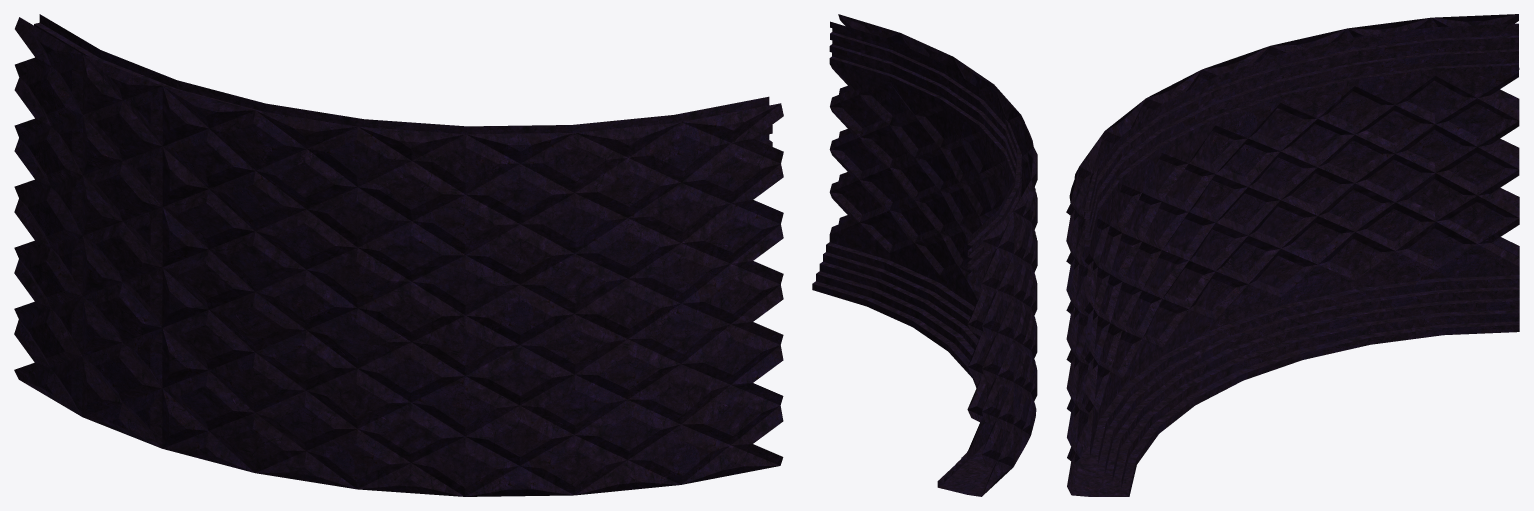
Rendered from mdl_duc_sci_planetariumcylinder_1of4.glb.
The picture shows the model from 3 angles, left to right: view 1: azimuth 30°, elevation 25°; view 2: azimuth 150°, elevation 25°; view 3: azimuth 270°, elevation 25°; orthographic projection. The views are drawn at different scales.
Visible parts, largest first — view 1: Cylindrical Wall 1/4; view 2: Cylindrical Wall 1/4; view 3: Cylindrical Wall 1/4.
Boxes of the visible parts, x1,y1,x2,y2 form: Cylindrical Wall 1/4: [14, 14, 783, 496]; Cylindrical Wall 1/4: [812, 14, 1037, 496]; Cylindrical Wall 1/4: [1066, 14, 1519, 496].
Bounding box in the file's own units: 1.03 × 0.7405 × 1.03.
1 material, 1 textured.
